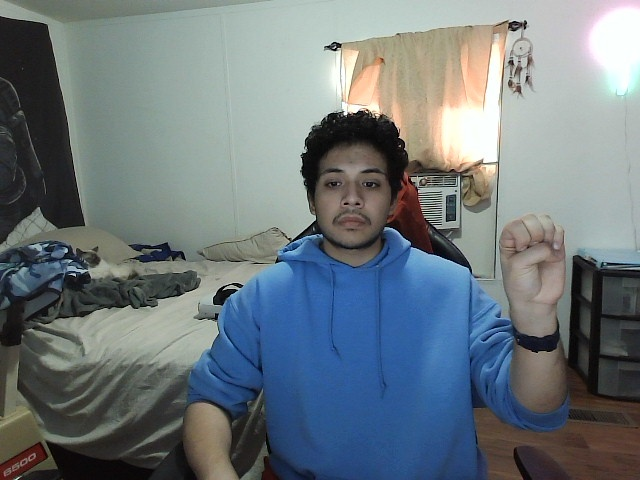E: (494, 208, 573, 308)
